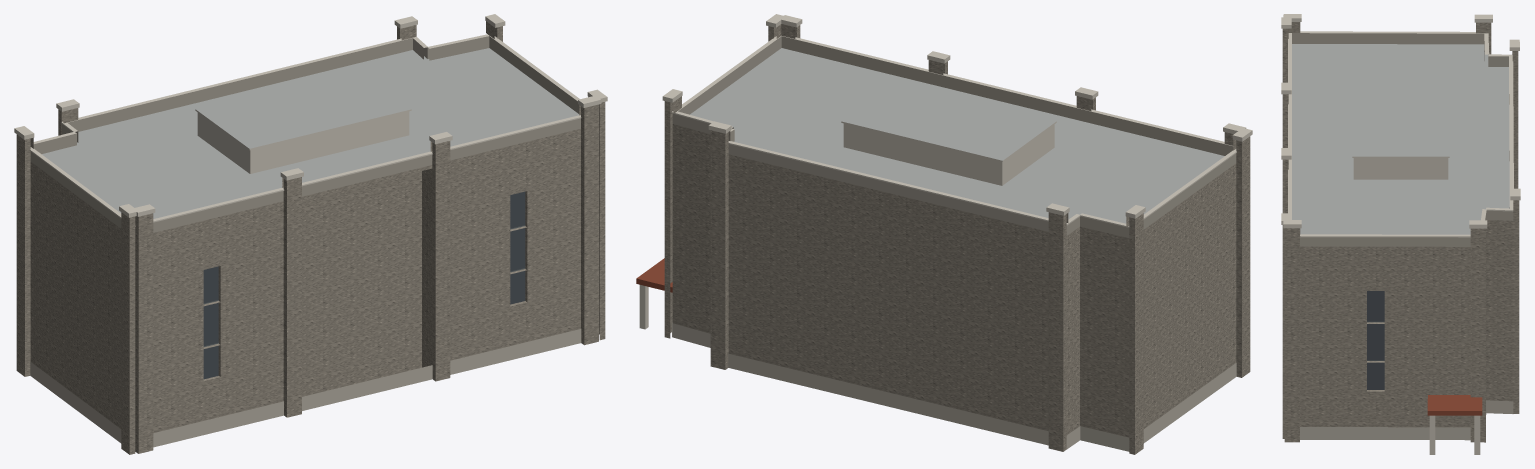
3 views of the same model, side by side, from view 1: azimuth 30°, elevation 25°; view 2: azimuth 150°, elevation 25°; view 3: azimuth 270°, elevation 25° (orthographic). The views are drawn at different scales.
Parts seen in each view (by area): view 1: museum__wall, museum__roof, museum__parapet, museum__trim, museum__base, museum__glass; view 2: museum__wall, museum__roof, museum__parapet, museum__trim, museum__base; view 3: museum__wall, museum__roof, museum__trim, museum__parapet, museum__base, museum__glass, museum__wall2, museum__column.
Part boxes in pixels (box(x1,y1,x2,y2)): museum__wall: box(16, 21, 605, 454); museum__roof: box(42, 48, 579, 218); museum__parapet: box(30, 36, 580, 232); museum__trim: box(14, 14, 607, 226); museum__base: box(30, 329, 581, 447); museum__glass: box(203, 191, 525, 379); museum__wall: box(664, 24, 1250, 454); museum__roof: box(690, 48, 1224, 223); museum__parapet: box(672, 36, 1236, 237); museum__trim: box(662, 14, 1252, 227); museum__base: box(672, 323, 1236, 451); museum__wall: box(1282, 22, 1519, 442); museum__roof: box(1292, 44, 1509, 234); museum__trim: box(1281, 14, 1520, 237); museum__parapet: box(1292, 33, 1513, 246); museum__base: box(1300, 400, 1513, 440); museum__glass: box(1367, 291, 1384, 389); museum__wall2: box(1427, 395, 1482, 415); museum__column: box(1429, 415, 1480, 454).
Bounding box in the file's own units: 44.72 × 20.35 × 20.23.
10 materials, 1 textured.
